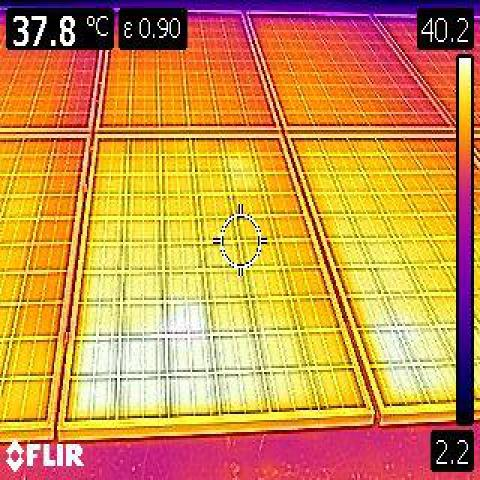fault: (87, 300, 217, 408), (381, 313, 430, 380)
